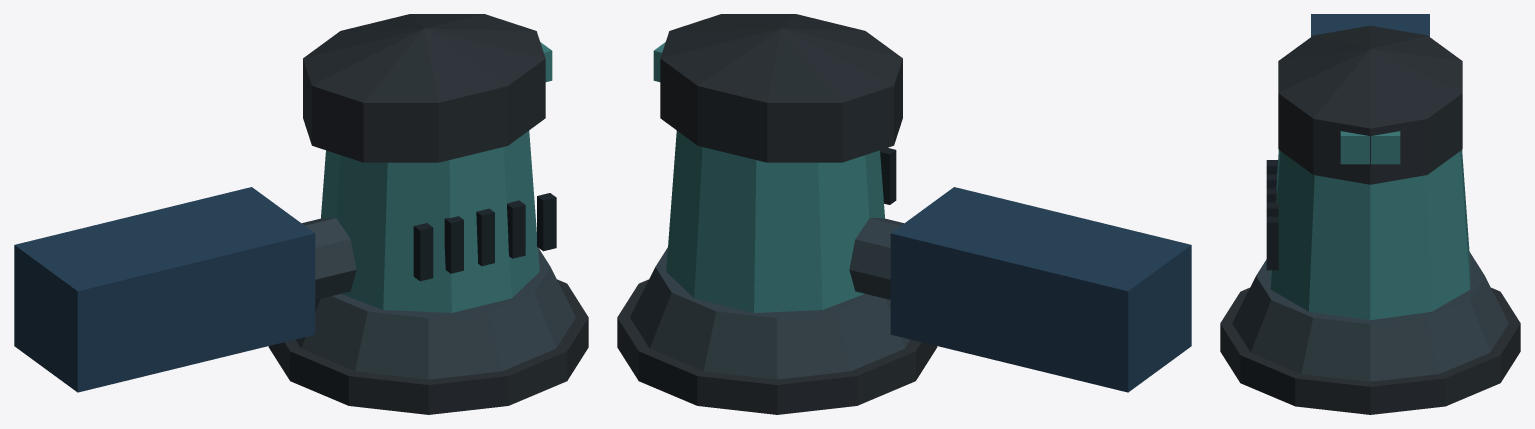
File: b06_orbital_sander.glb
3 renders of one model, left to right at view 1: azimuth 30°, elevation 25°; view 2: azimuth 150°, elevation 25°; view 3: azimuth 270°, elevation 25°, orthographic. The views are drawn at different scales.
Visible parts, largest first — view 1: b06_orbital_sander; view 2: b06_orbital_sander; view 3: b06_orbital_sander.
Part boxes in pixels (bbox=[...]): b06_orbital_sander: bbox=[14, 14, 588, 414]; b06_orbital_sander: bbox=[617, 14, 1191, 414]; b06_orbital_sander: bbox=[1220, 14, 1520, 414].
Size of the model in its own units: 0.237 by 0.139 by 0.126.
